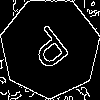P: (24, 22, 77, 79)
